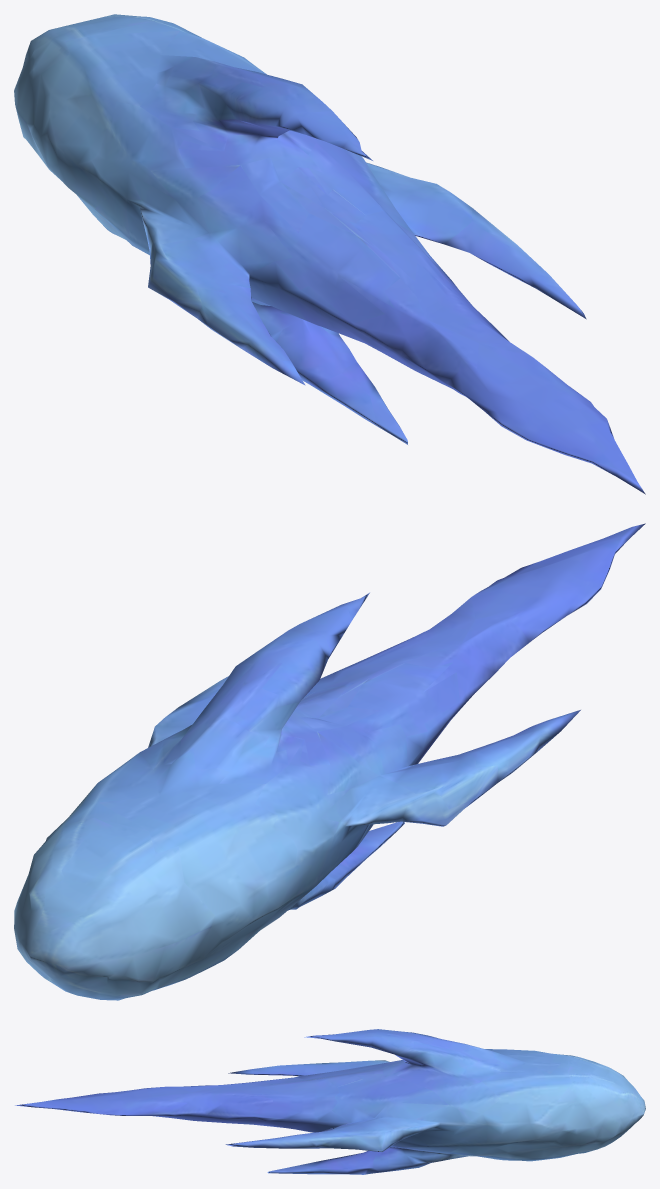
File: fx_bolt.glb
3 renders of one model, top to bottom at view 1: azimuth 30°, elevation 25°; view 2: azimuth 150°, elevation 25°; view 3: azimuth 270°, elevation 25°, orthographic. The views are drawn at different scales.
Parts seen in each view (by area): view 1: tripo_node_1bb8a2e3-af27-4be4-9d86-4588a50713c4; view 2: tripo_node_1bb8a2e3-af27-4be4-9d86-4588a50713c4; view 3: tripo_node_1bb8a2e3-af27-4be4-9d86-4588a50713c4.
Part boxes in pixels (<box>): tripo_node_1bb8a2e3-af27-4be4-9d86-4588a50713c4: <box>14,14,645,494</box>; tripo_node_1bb8a2e3-af27-4be4-9d86-4588a50713c4: <box>14,523,645,1000</box>; tripo_node_1bb8a2e3-af27-4be4-9d86-4588a50713c4: <box>15,1029,645,1174</box>.
Size of the model in its own units: 0.2943 by 0.2439 by 1.
1 material, 1 textured.
